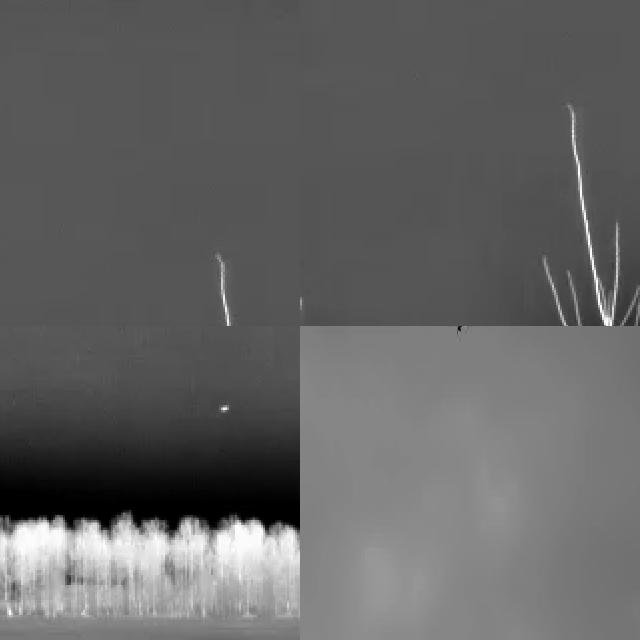1: (210, 395, 234, 420)
drone: (442, 326, 479, 337)
